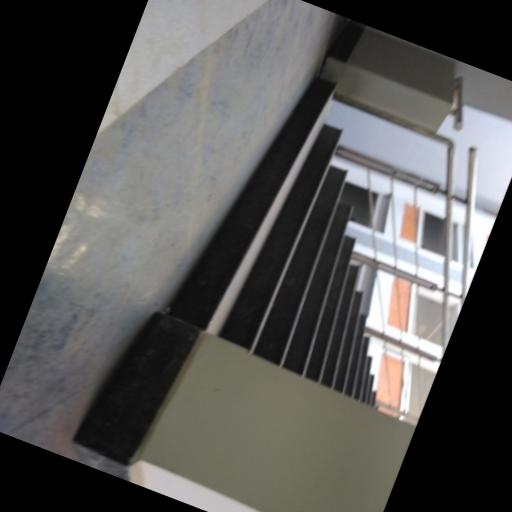stairs: (170, 78, 374, 404)
